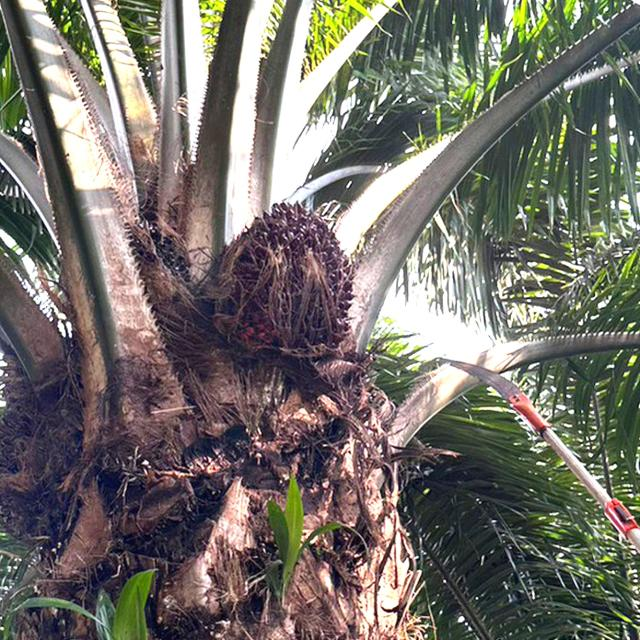ripe: (216, 183, 358, 370)
